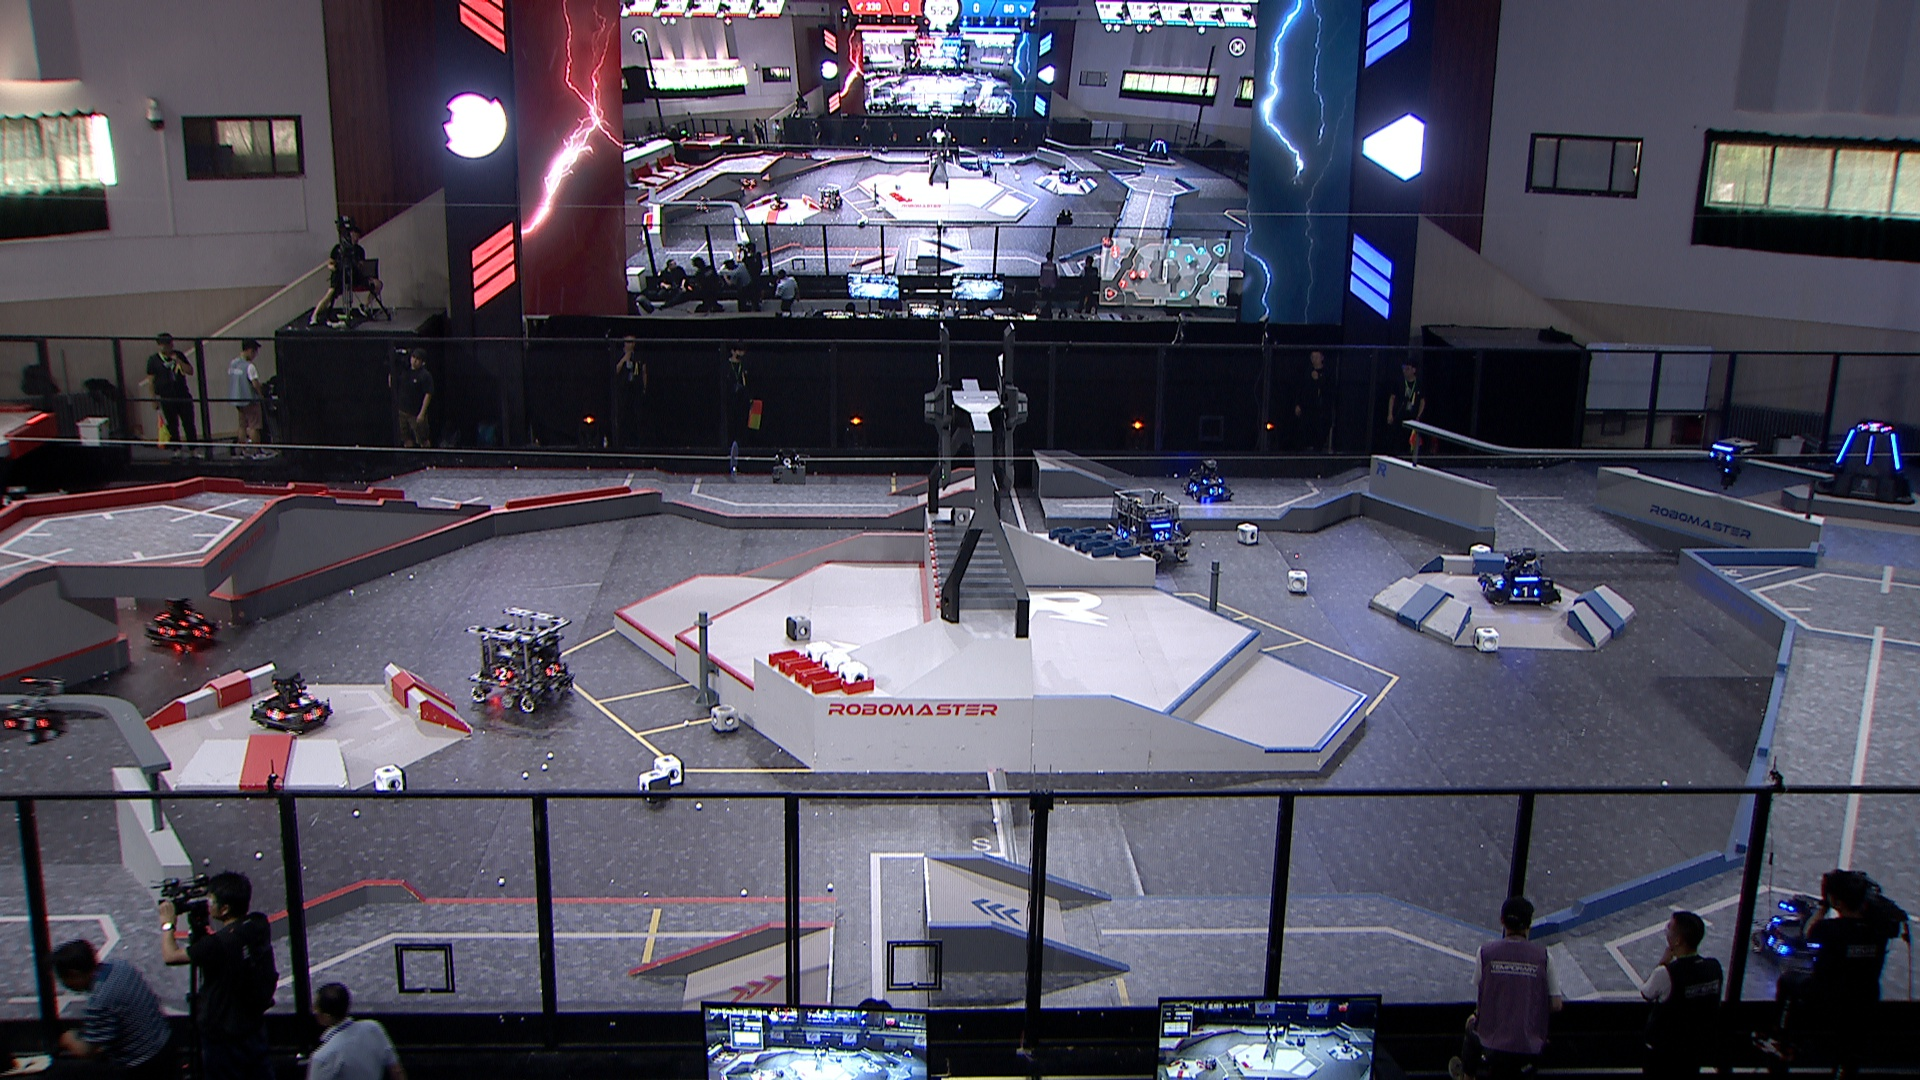armor: (3, 713, 49, 731), (1836, 429, 1855, 467), (1888, 433, 1903, 469), (1766, 938, 1792, 957), (289, 694, 318, 708), (177, 612, 204, 626), (1513, 585, 1542, 599), (542, 661, 560, 679), (493, 666, 513, 683), (1865, 434, 1875, 465), (156, 622, 178, 637), (305, 707, 323, 723), (191, 622, 212, 636), (1709, 450, 1731, 462), (1486, 572, 1505, 585), (1154, 529, 1172, 542), (264, 708, 286, 719), (1201, 475, 1222, 484), (1481, 580, 1494, 595), (1116, 527, 1130, 541), (1187, 481, 1200, 495), (1207, 487, 1225, 495)
base: (1811, 422, 1915, 505)
car: (462, 605, 576, 712), (1745, 889, 1846, 975), (1102, 489, 1193, 566), (248, 670, 334, 738), (1477, 542, 1563, 609), (138, 589, 218, 657), (1182, 460, 1237, 504)
ignore: (818, 182, 844, 211), (1145, 138, 1171, 161), (1861, 423, 1888, 434)
watcher: (1, 674, 74, 750), (1705, 433, 1759, 487)
